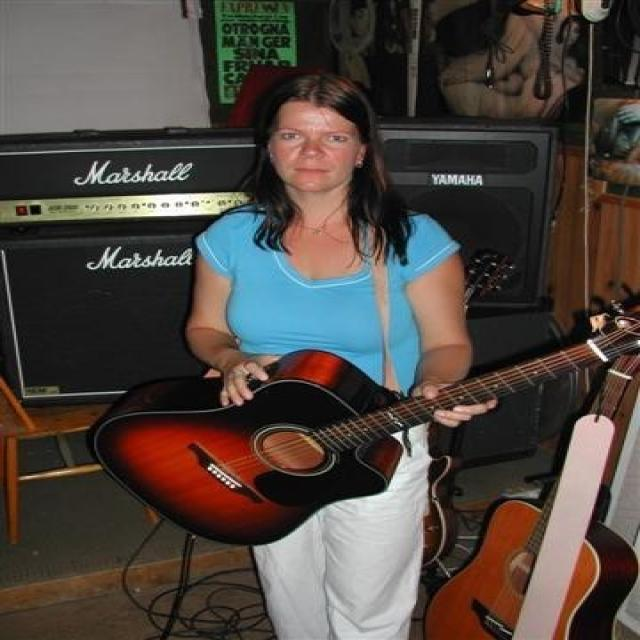guitar: (88, 304, 638, 550), (421, 314, 639, 640), (440, 256, 534, 305)
